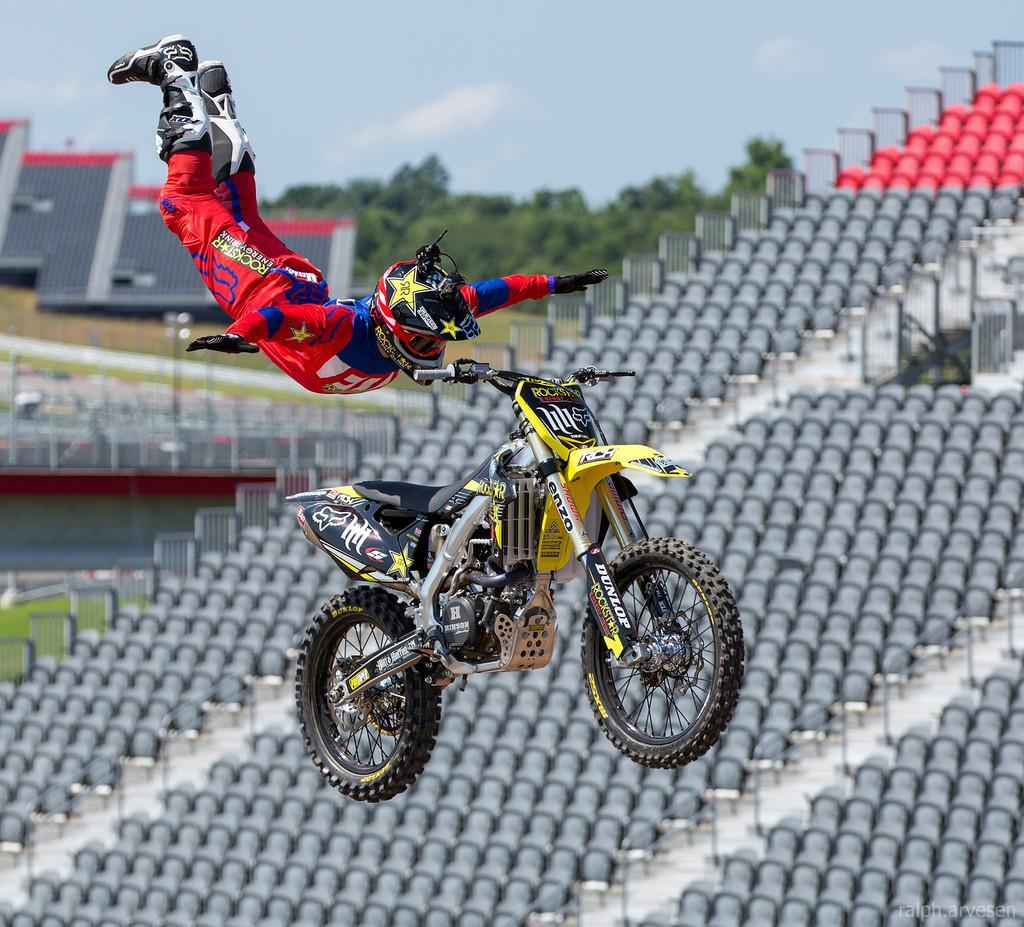helmet: (368, 257, 484, 388)
